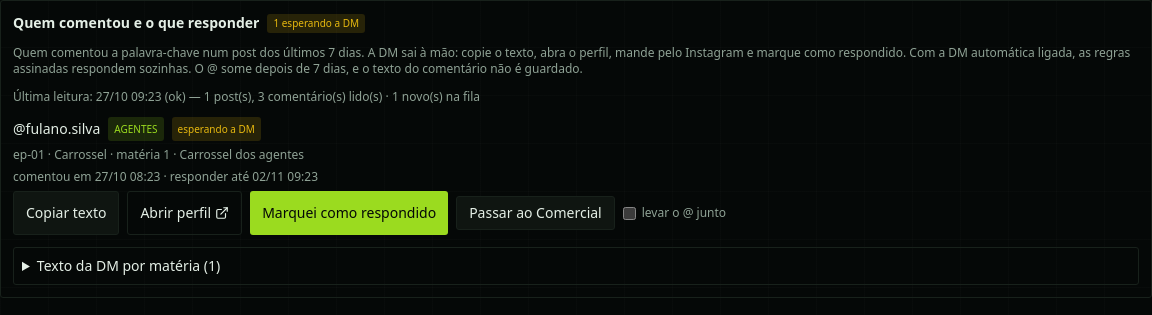
Scenario: ROOT-48: passar ao Comercial › o clique manda só a origem; o @ só vai com a caixa marcada, e o lead vira link
This screenshot has width=1152, height=315.
Click the button "Passar ao Comercial" at (535, 213), box [456,196,615,230]
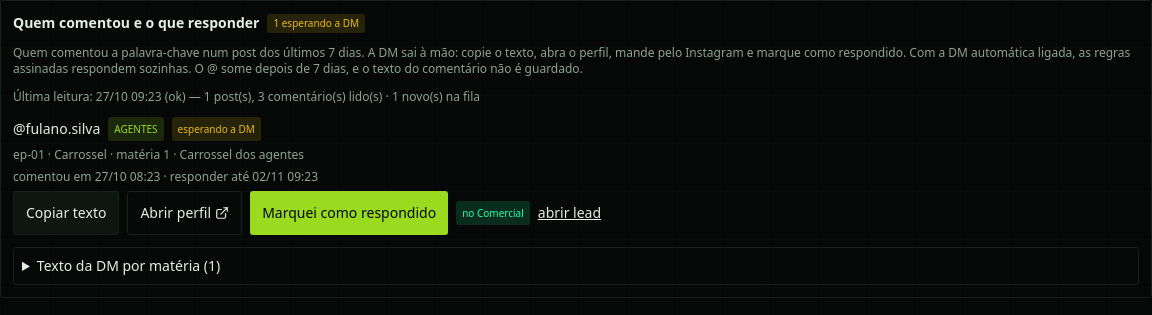
Now the text "no Comercial" is shown, box [456,201,530,225]
